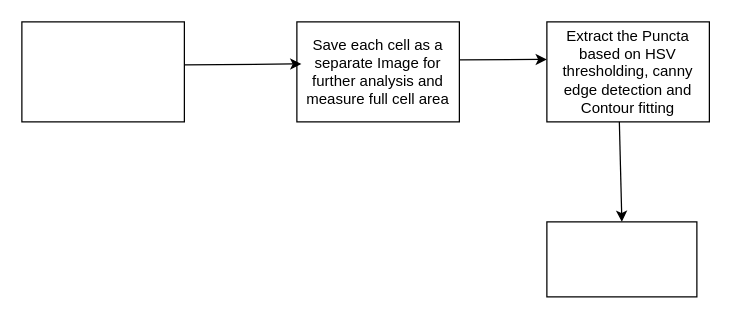
The diagram is 731 pixels wide and 319 high, and some of its shapes have lost their labels. Each missing label, with the centre of its shape:
"Count individually identified Puncta and measure distance between them" belongs at point 621,259.
"Segment the cells/neurons in the Image" belongs at point 102,71.
